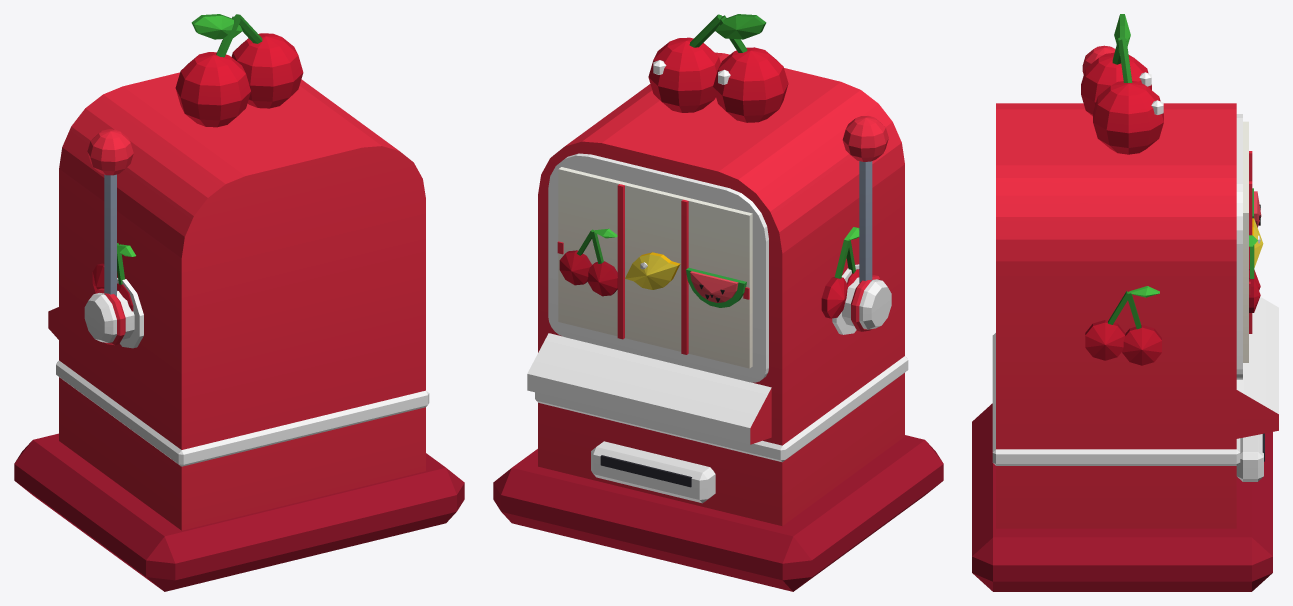
The model's file is LuckyFruitsMachine.glb.
The picture shows the model from 3 angles, left to right: view 1: azimuth 30°, elevation 25°; view 2: azimuth 150°, elevation 25°; view 3: azimuth 270°, elevation 25°; orthographic projection.
Parts seen in each view (by area): view 1: Cabinet, Base, Topper, Lever; view 2: Cabinet, Screen, Base, Topper, Lever; view 3: Cabinet, Base, Topper, Screen.
Part boxes in pixels (<box>): Cabinet: <box>48,72,429,530</box>; Base: <box>14,433,464,591</box>; Topper: <box>175,14,303,127</box>; Lever: <box>84,129,134,345</box>; Cabinet: <box>527,52,908,526</box>; Screen: <box>557,167,752,368</box>; Base: <box>493,435,943,591</box>; Topper: <box>648,14,788,122</box>; Lever: <box>842,116,891,331</box>; Cabinet: <box>992,103,1278,528</box>; Base: <box>972,403,1272,591</box>; Topper: <box>1081,14,1163,154</box>; Screen: <box>1243,121,1263,362</box>.
Size of the model in its own units: 6 by 9.04 by 5.1.
Materials: 2 (1 with a texture image).
